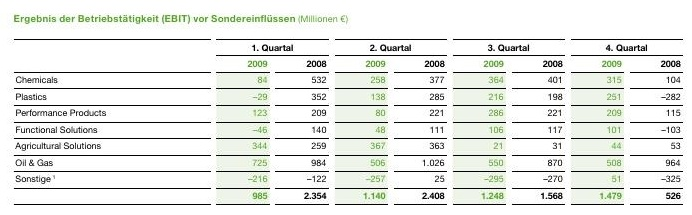table: (0, 0, 692, 215)
